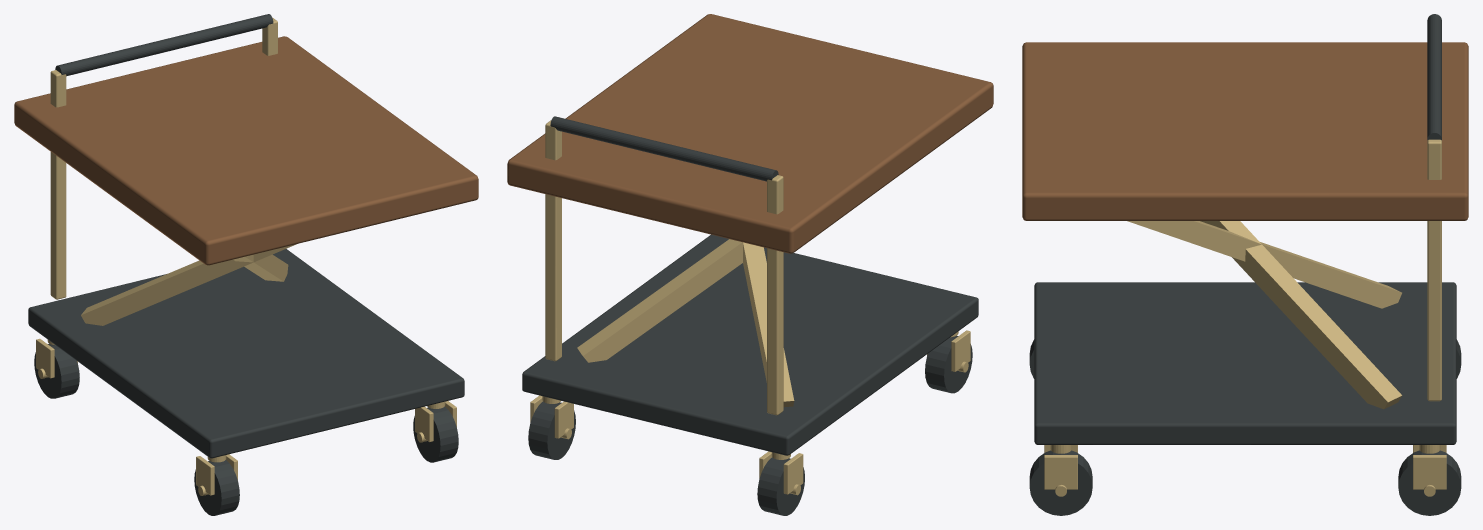
Rendered from city-courthouse-and-records-office-city-courthouse-and-8587e00d__30991.glb.
The picture shows the model from 3 angles, left to right: view 1: azimuth 30°, elevation 25°; view 2: azimuth 150°, elevation 25°; view 3: azimuth 270°, elevation 25°; orthographic projection. The views are drawn at different scales.
Visible parts, largest first — view 1: city-courthouse-and-records-office-document-lift-cart; view 2: city-courthouse-and-records-office-document-lift-cart; view 3: city-courthouse-and-records-office-document-lift-cart.
Boxes of the visible parts, box(x1,y1,x2,y2) form: city-courthouse-and-records-office-document-lift-cart: box(14, 14, 478, 515); city-courthouse-and-records-office-document-lift-cart: box(507, 14, 993, 515); city-courthouse-and-records-office-document-lift-cart: box(1022, 14, 1468, 515).
Size of the model in its own units: 0.75 by 0.855 by 0.92.
